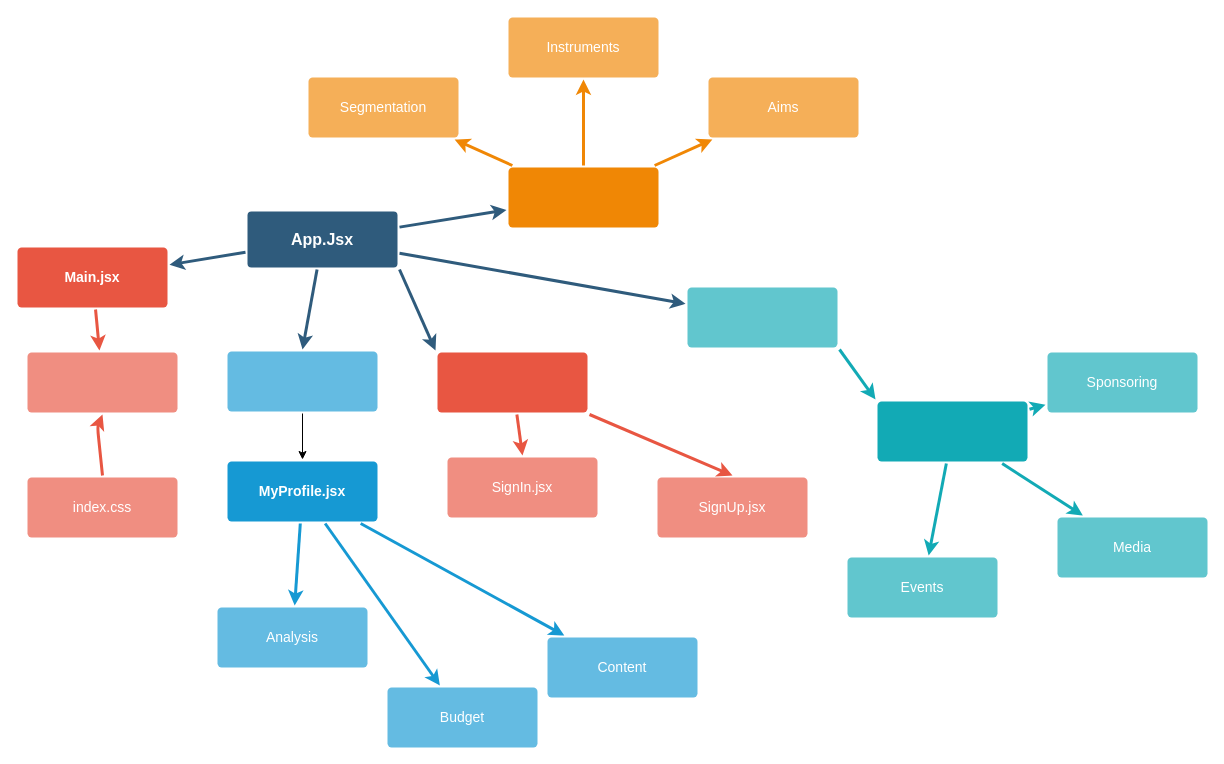
Image size: 1224x764. Some labels were removed from this diagram. Each missing label, with the centre of its shape:
auth/: [512,382]
forms/: [762,317]
index.html: [102,382]
My Closet.jsx: [583,197]
Upload.jsx: [952,431]
userProfile/: [302,381]
